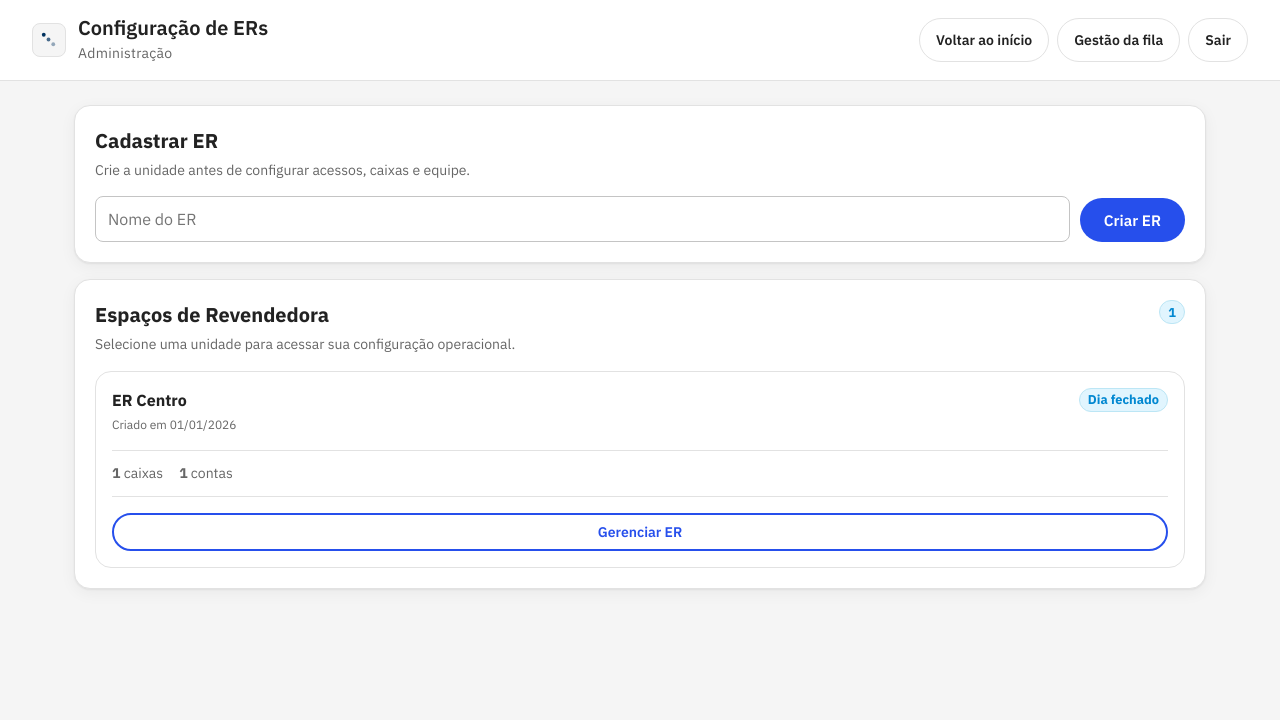
AdminPage — ER management › renders the closed-day state and entry URLs without a signed token
This screenshot has width=1280, height=720.
What coordinates should you click on to do the following:
click the button "Gerenciar ER"
I would click on:
 (640, 532)
Its box is [112, 513, 1168, 551].
(page scrolled)
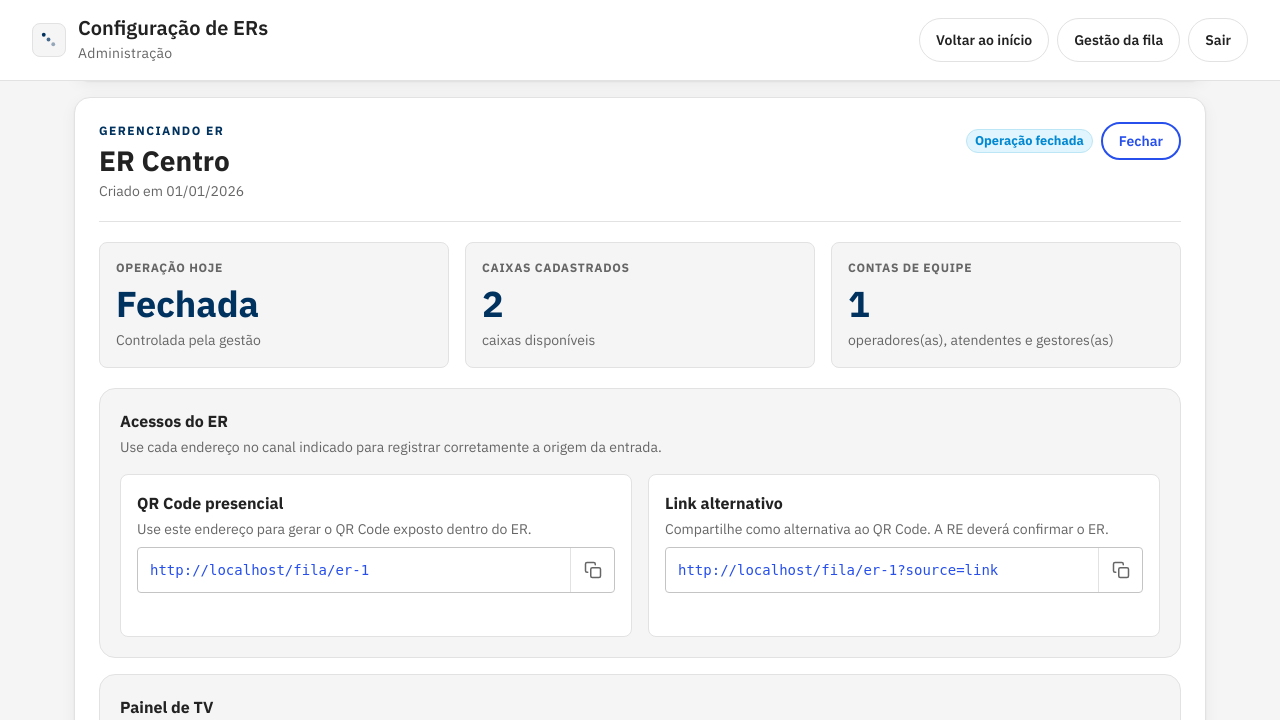
Expected: the heading "Acessos do ER" is shown, [120, 412, 228, 432]
Expected: the text "Operação fechada" is shown, [966, 129, 1093, 153]
Expected: the text "caixas disponíveis" is shown, [482, 332, 595, 350]
